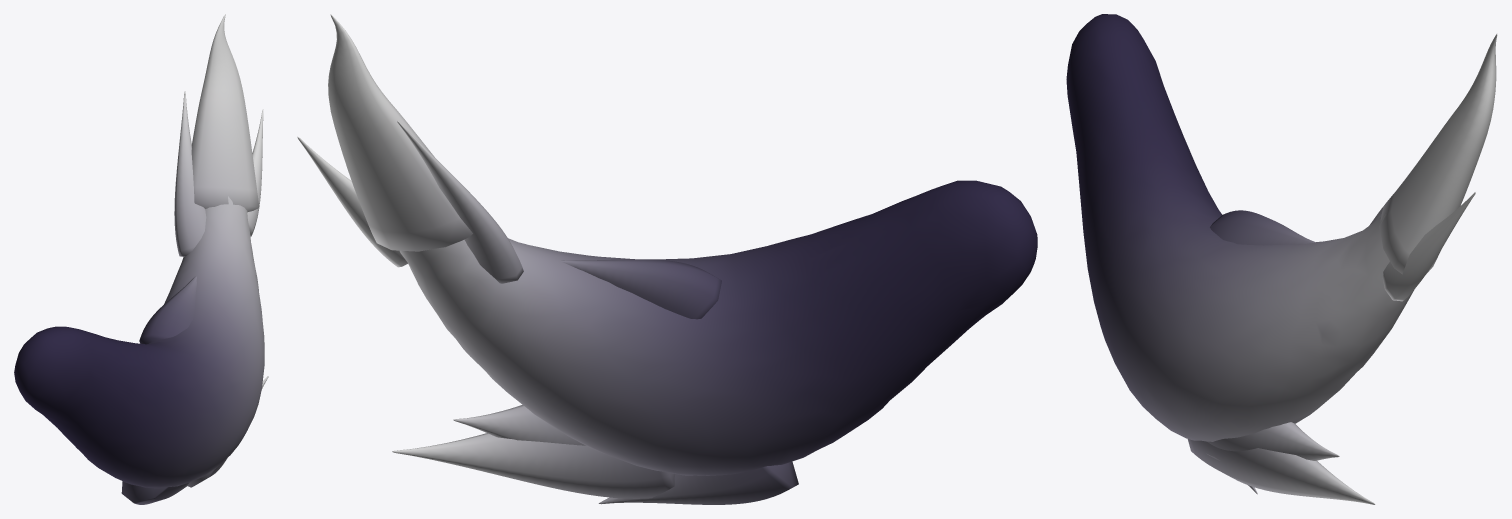
Rendered from monarca_chama_baixo_d.fbx.
3 views of the same model, side by side, from view 1: azimuth 30°, elevation 25°; view 2: azimuth 150°, elevation 25°; view 3: azimuth 270°, elevation 25° (orthographic). The views are drawn at different scales.
Visible parts, largest first — view 1: monarca_chama_baixo_d; view 2: monarca_chama_baixo_d; view 3: monarca_chama_baixo_d.
Part boxes in pixels (box(x1,y1,x2,y2)): monarca_chama_baixo_d: box(14, 14, 268, 504); monarca_chama_baixo_d: box(297, 14, 1037, 504); monarca_chama_baixo_d: box(1066, 14, 1497, 504).
Size of the model in its own units: 2.21 by 2.1 by 1.55.
